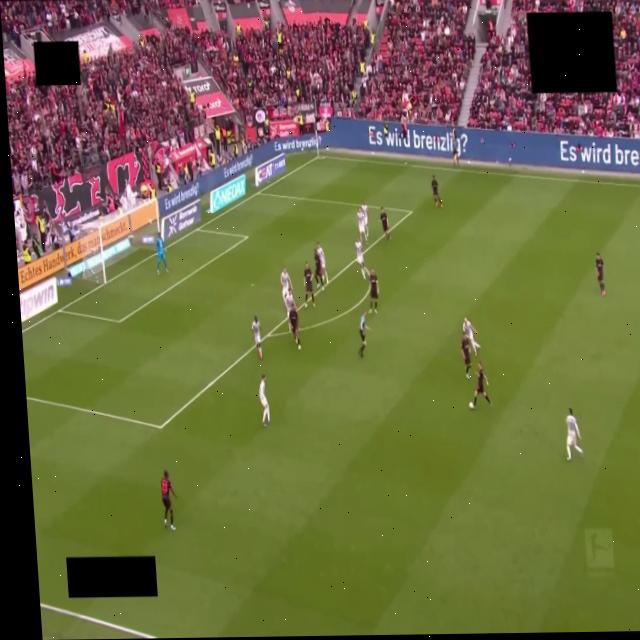ball: (469, 402, 474, 408)
player: (566, 408, 583, 461), (161, 470, 176, 530), (473, 362, 491, 408), (257, 373, 270, 428), (463, 318, 480, 355), (280, 268, 292, 313), (356, 237, 368, 279), (304, 262, 315, 307), (156, 234, 168, 275), (289, 305, 300, 349), (461, 334, 471, 378), (317, 243, 328, 283), (595, 253, 605, 295), (314, 249, 324, 291), (252, 317, 262, 359), (286, 290, 296, 331), (369, 270, 378, 314), (431, 176, 442, 208), (380, 209, 390, 241), (357, 207, 366, 241), (361, 203, 368, 240)
referee: (359, 312, 368, 357)
